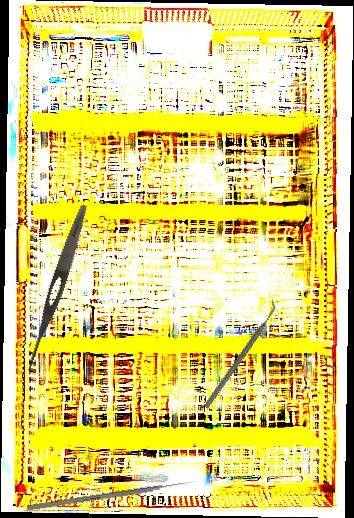Chopper: (176, 299, 304, 410)
Dressing Forceps: (22, 202, 92, 374)
Pusher: (26, 478, 198, 512)
